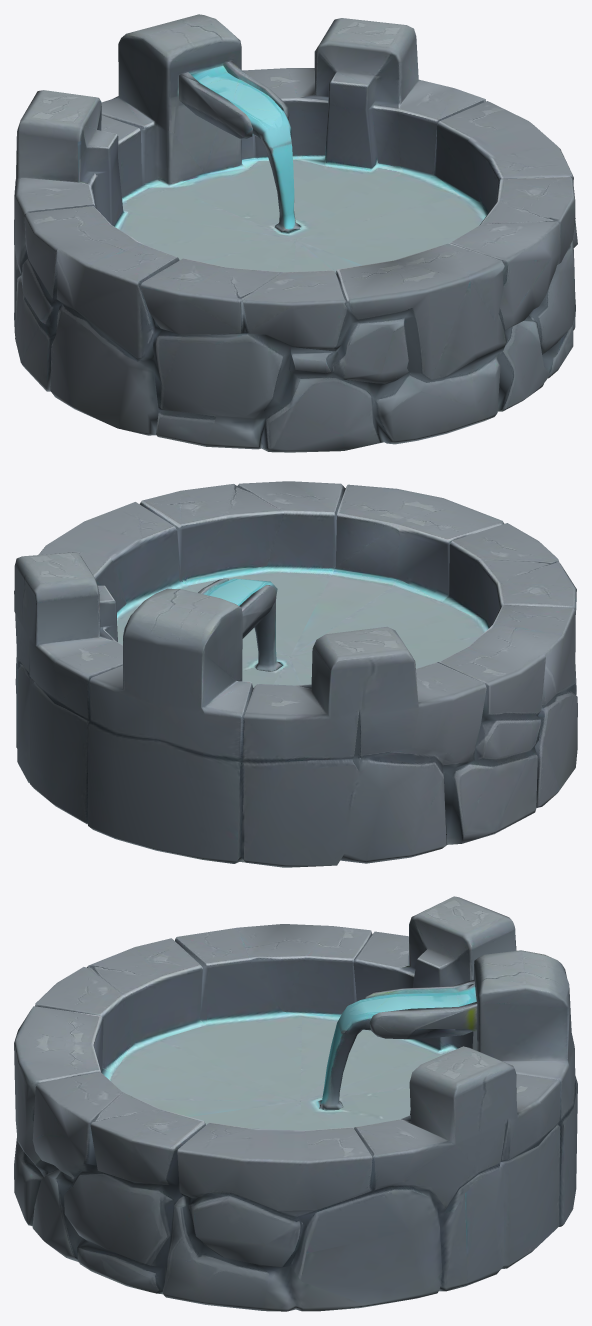
The model's file is springWell.glb.
3 views of the same model, one above another, from view 1: azimuth 30°, elevation 25°; view 2: azimuth 150°, elevation 25°; view 3: azimuth 270°, elevation 25° (orthographic).
Bounding box in the file's own units: 0.9575 × 0.4214 × 0.9537.
1 material, 1 textured.
